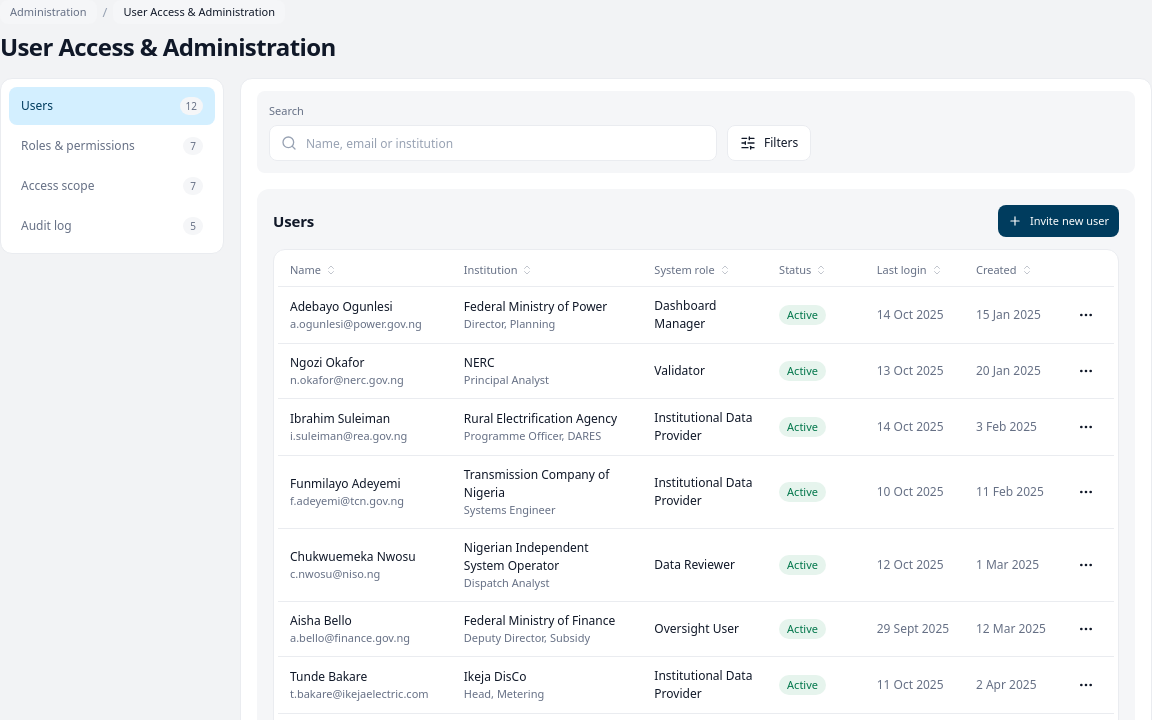
Scenario: AdministrationPage › opens advanced filters in a dismissible popover
This screenshot has width=1152, height=720.
Expected: the heading "User Access & Administration" is shown, top-left (0, 30), bottom-right (336, 63)
Click the button "Filters".
click(769, 143)  # box top-left (727, 125), bottom-right (811, 161)
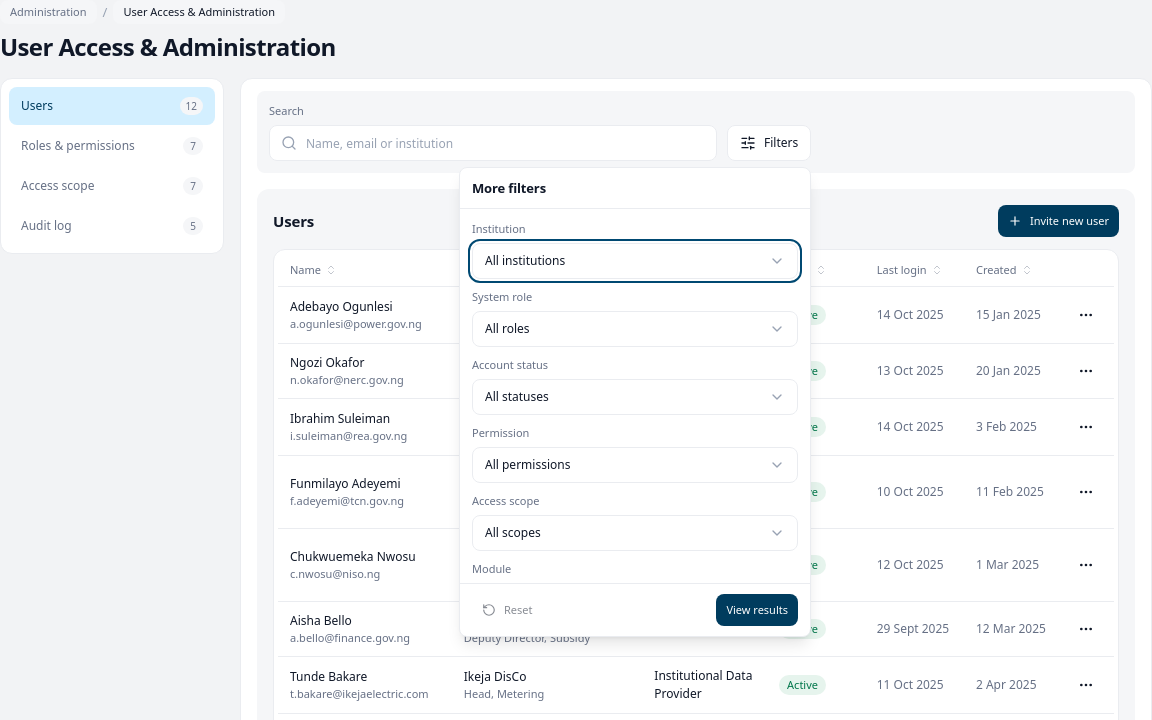
Now the dialog "More filters" is shown, box top-left (459, 167), bottom-right (811, 637)
Click the button "View results".
click(757, 610)  # box top-left (716, 594), bottom-right (798, 626)
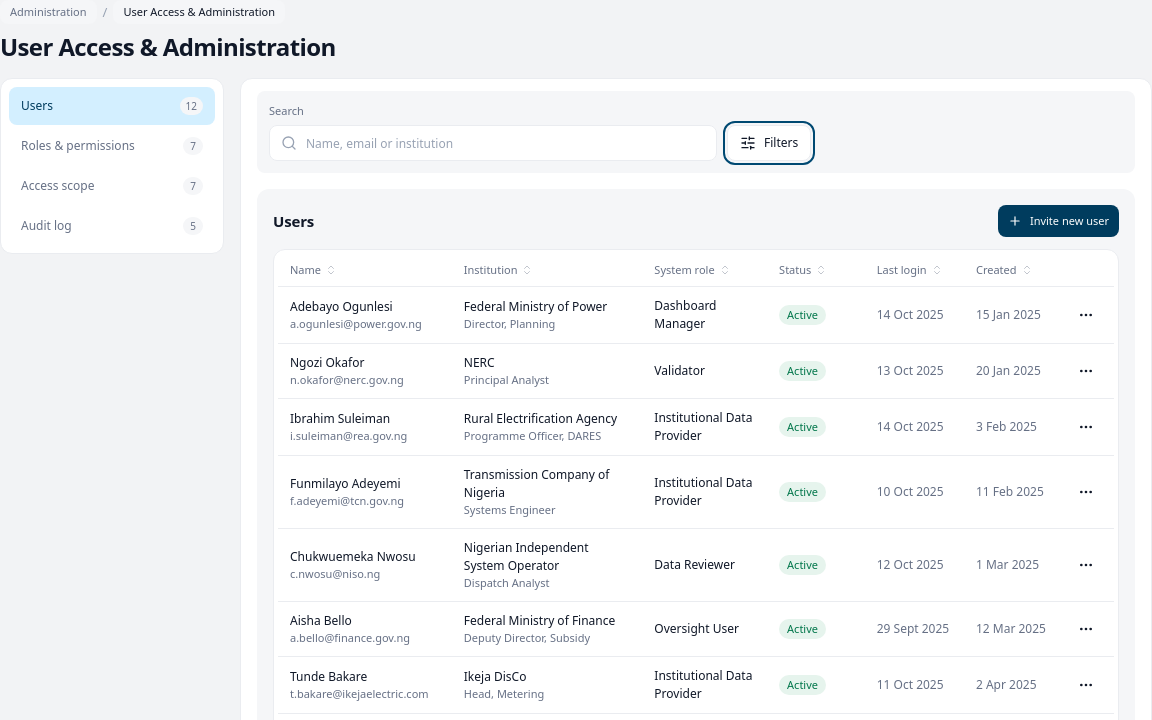
Now the heading "More filters" is gone
